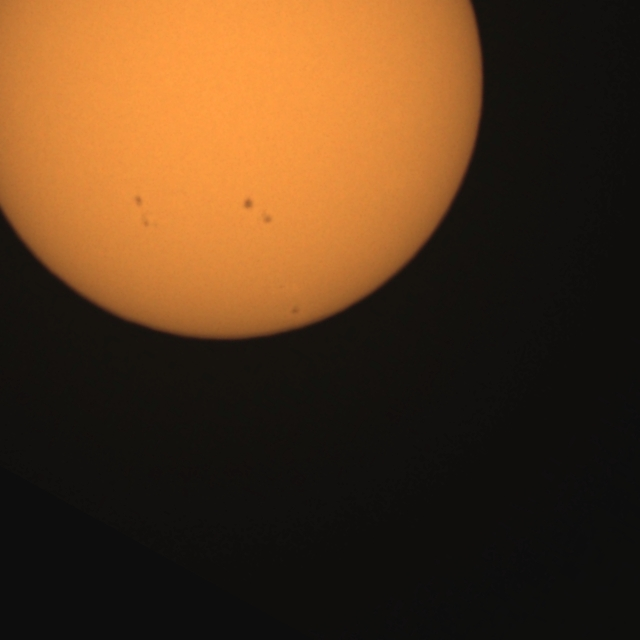sunspot: (242, 196, 274, 225), (133, 191, 151, 230), (259, 209, 275, 226), (241, 196, 255, 212), (132, 194, 144, 209), (140, 217, 152, 230), (289, 305, 301, 317)
